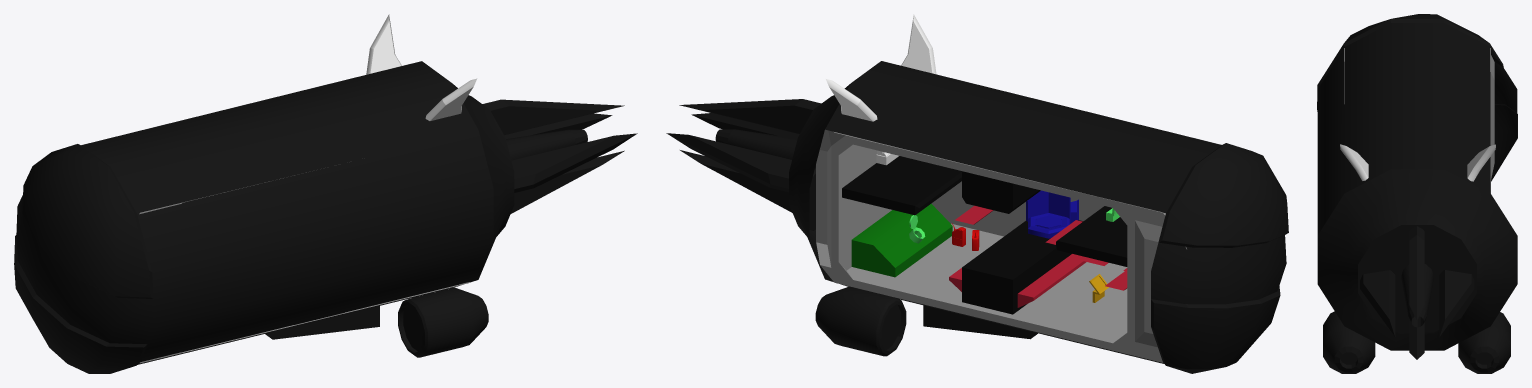
File: Submarinev3.FBX
The picture shows the model from 3 angles, left to right: view 1: azimuth 30°, elevation 25°; view 2: azimuth 150°, elevation 25°; view 3: azimuth 270°, elevation 25°; orthographic projection. The views are drawn at different scales.
Visible parts, largest first — view 1: Corps, Turbines, Moteur2, Aileron1, Aileron2, Rooms; view 2: Corps, Rooms, LD, Turbines, Moteur1, Tank, object 11, Platform2, Aileron2, Aileron1; view 3: Corps, Turbines, Moteur2, Moteur1, Rooms, Aileron1, Aileron2.
Part boxes in pixels (x1,y1,x2,y2): Corps: [14, 61, 514, 373]; Turbines: [482, 99, 637, 213]; Moteur2: [398, 287, 488, 357]; Aileron1: [366, 14, 401, 74]; Aileron2: [425, 78, 477, 120]; Rooms: [139, 172, 469, 363]; Corps: [789, 61, 1288, 373]; Rooms: [816, 129, 1186, 362]; LD: [842, 156, 1127, 314]; Turbines: [666, 99, 821, 212]; Moteur1: [815, 286, 906, 356]; Tank: [851, 203, 952, 277]; object 11: [1026, 190, 1078, 238]; Platform2: [1017, 254, 1086, 307]; Aileron2: [901, 14, 936, 74]; Aileron1: [826, 79, 877, 121]; Corps: [1317, 14, 1517, 350]; Turbines: [1360, 226, 1474, 359]; Moteur2: [1323, 311, 1375, 373]; Moteur1: [1458, 312, 1510, 373]; Rooms: [1344, 48, 1494, 193]; Aileron1: [1467, 144, 1495, 181]; Aileron2: [1340, 144, 1368, 180].
Bounding box in the file's own units: 32.8 × 14.18 × 10.95.
